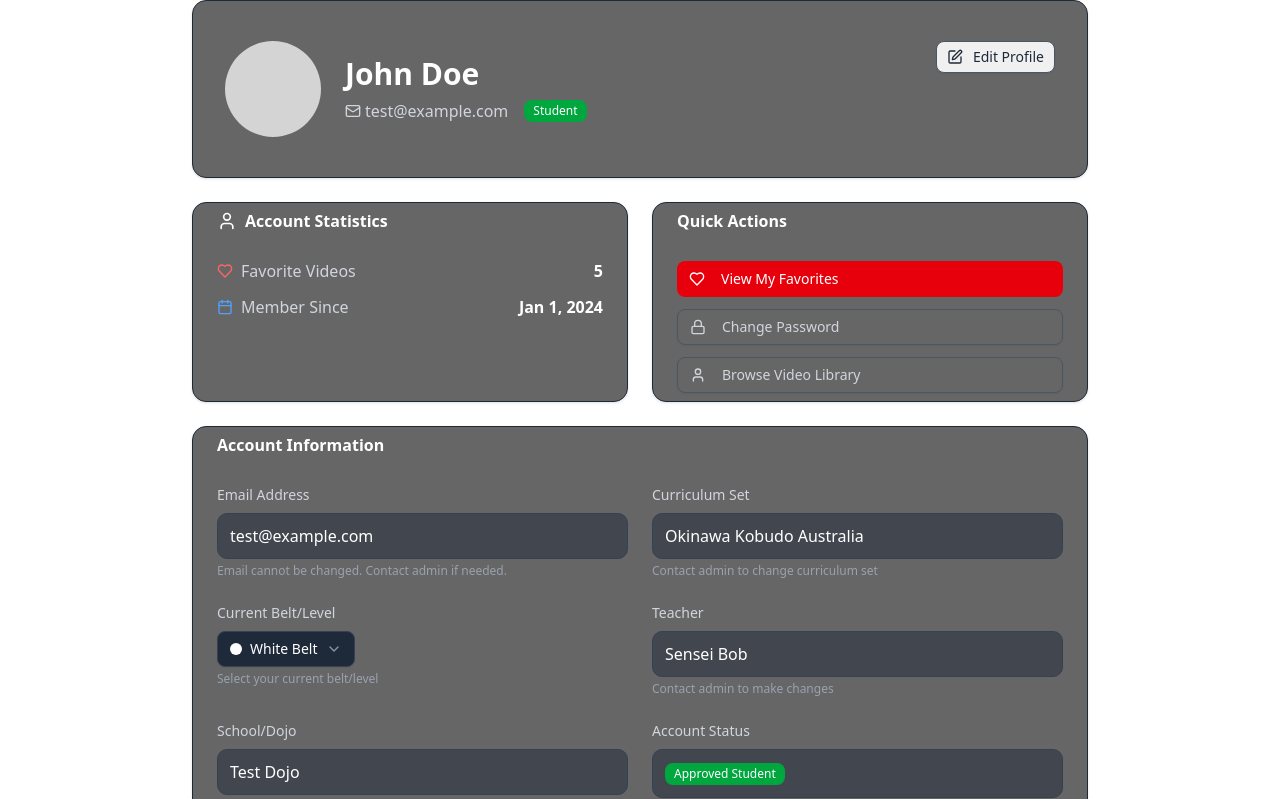
Test case: UserProfile › should enter edit mode when Edit Profile button is clicked
Click the button "Edit Profile": (995, 57) [936,41,1055,73]
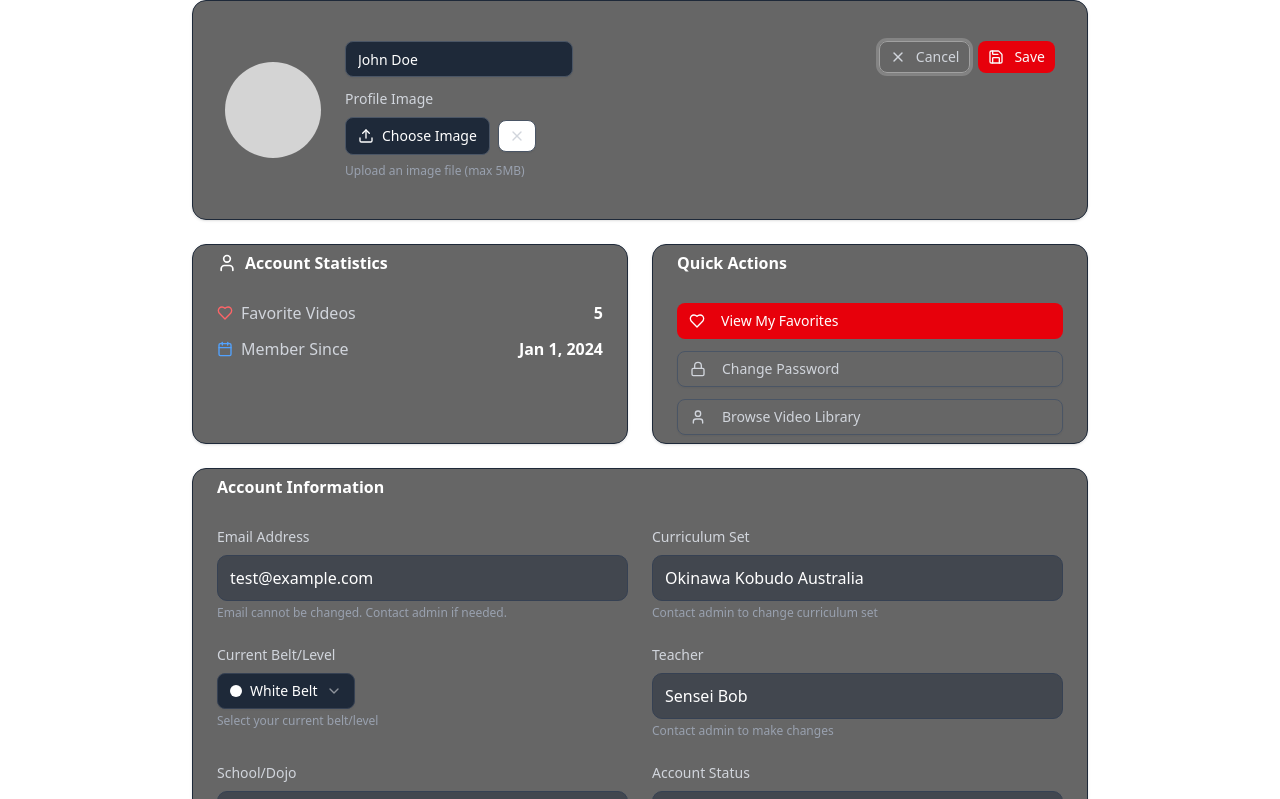
Expected: the button "Cancel" is shown, [879,41,970,73]
Expected: the button "Save" is shown, [978,41,1055,73]
